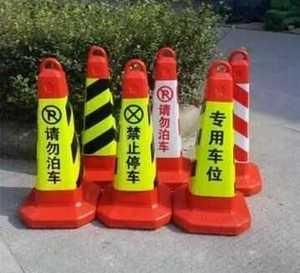cone_barrel: (16, 56, 90, 227), (182, 64, 240, 216), (105, 64, 160, 213), (72, 47, 117, 187), (149, 50, 185, 177), (225, 52, 257, 184)
